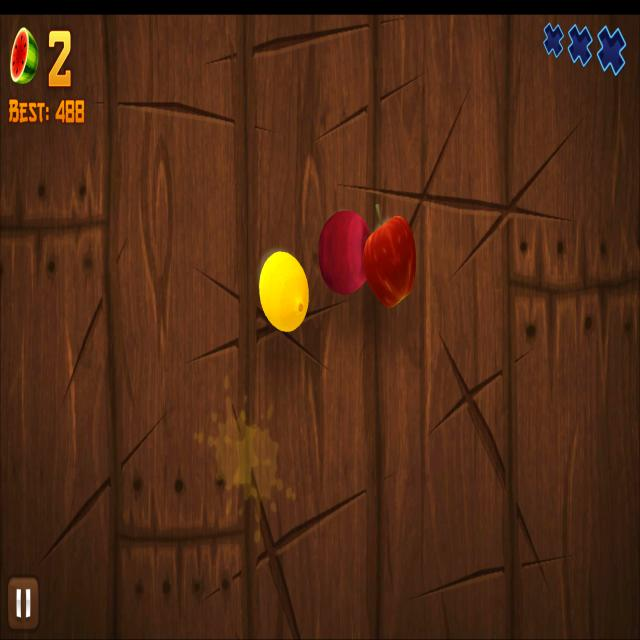fruit: (364, 216, 416, 307), (319, 212, 370, 295), (258, 252, 309, 332)
